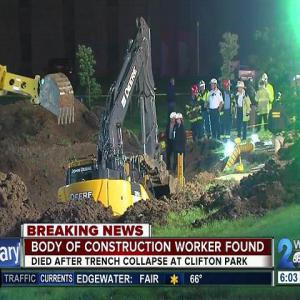none: (260, 80, 266, 89)
red: (192, 85, 199, 98), (225, 79, 232, 91)
white: (176, 113, 184, 126), (211, 79, 219, 91), (238, 82, 246, 93), (170, 112, 177, 123), (200, 81, 206, 92), (264, 75, 269, 84)
